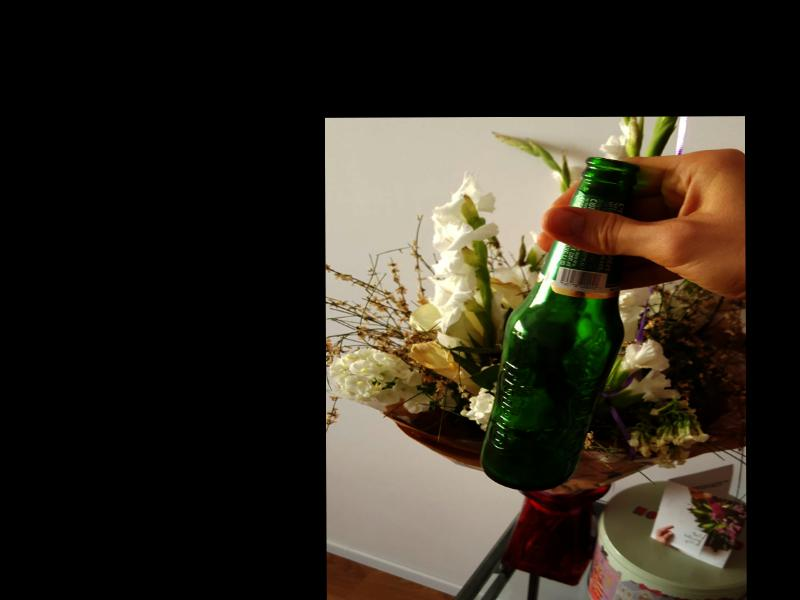Beer: (479, 157, 624, 490)
